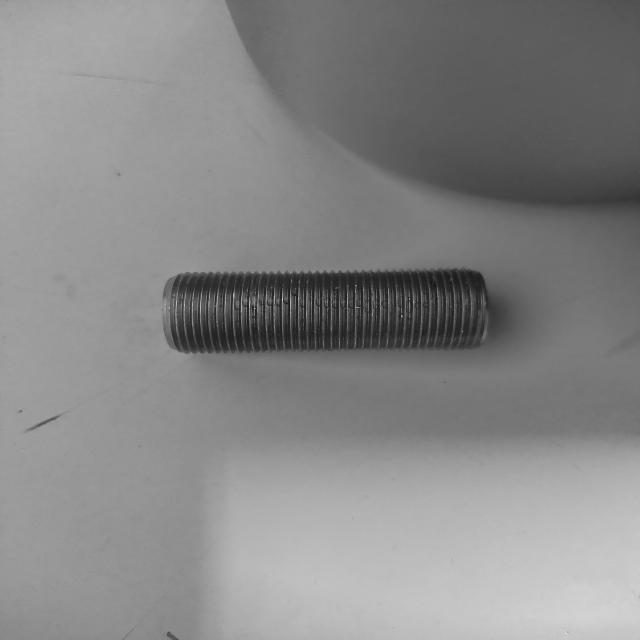Normal: (162, 266, 488, 356)
